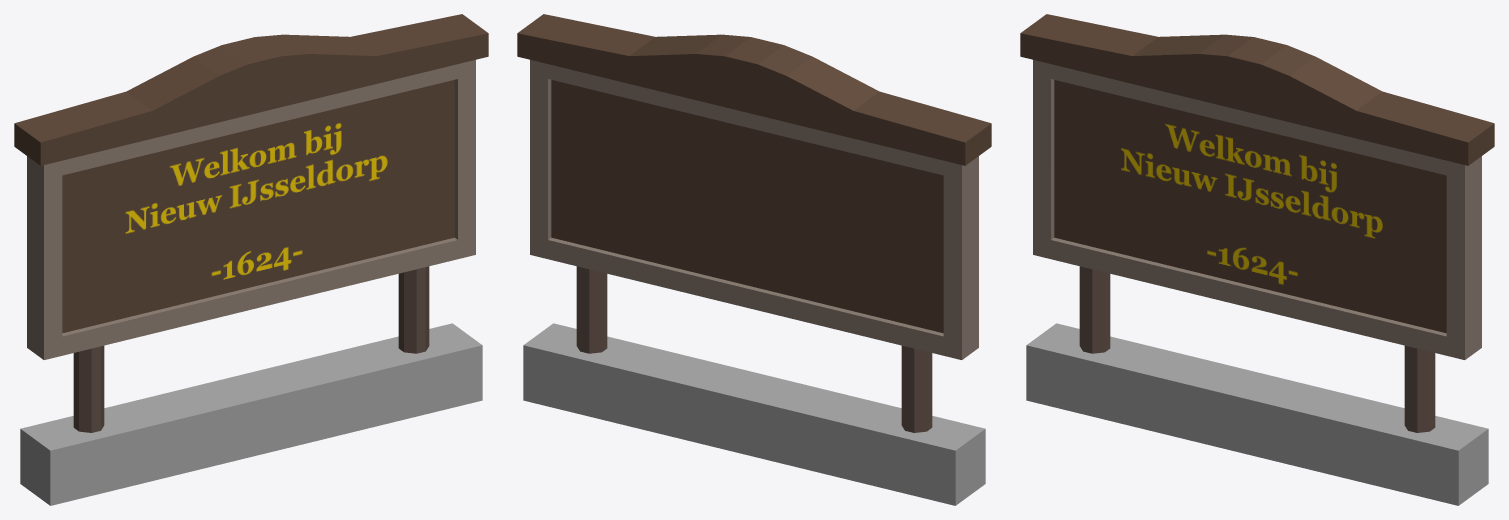
The model's file is WelcomeSignNIJ.fbx.
The picture shows the model from 3 angles, left to right: view 1: azimuth 30°, elevation 25°; view 2: azimuth 150°, elevation 25°; view 3: azimuth 330°, elevation 25°; orthographic projection.
Parts seen in each view (by area): view 1: Sign; view 2: Sign; view 3: Sign.
Boxes of the visible parts, x1,y1,x2,y2 form: Sign: (14,14,488,505); Sign: (517,14,991,505); Sign: (1020,14,1494,505).
Size of the model in its own units: 491 by 410 by 57.03.
1 material, 1 textured.
